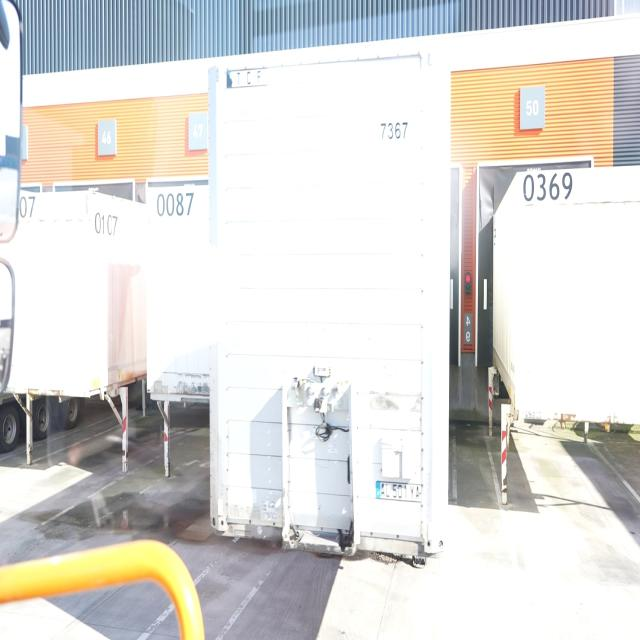Code: (519, 167, 574, 209), (153, 188, 200, 220), (89, 202, 121, 241), (377, 116, 413, 144)
